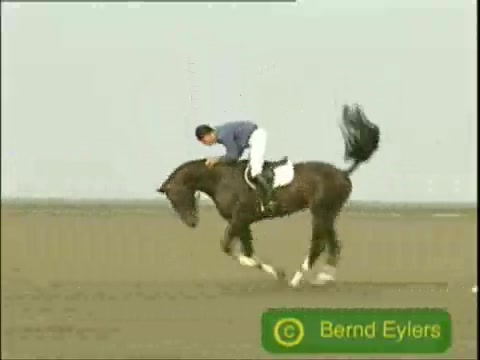horse: (157, 103, 382, 288)
